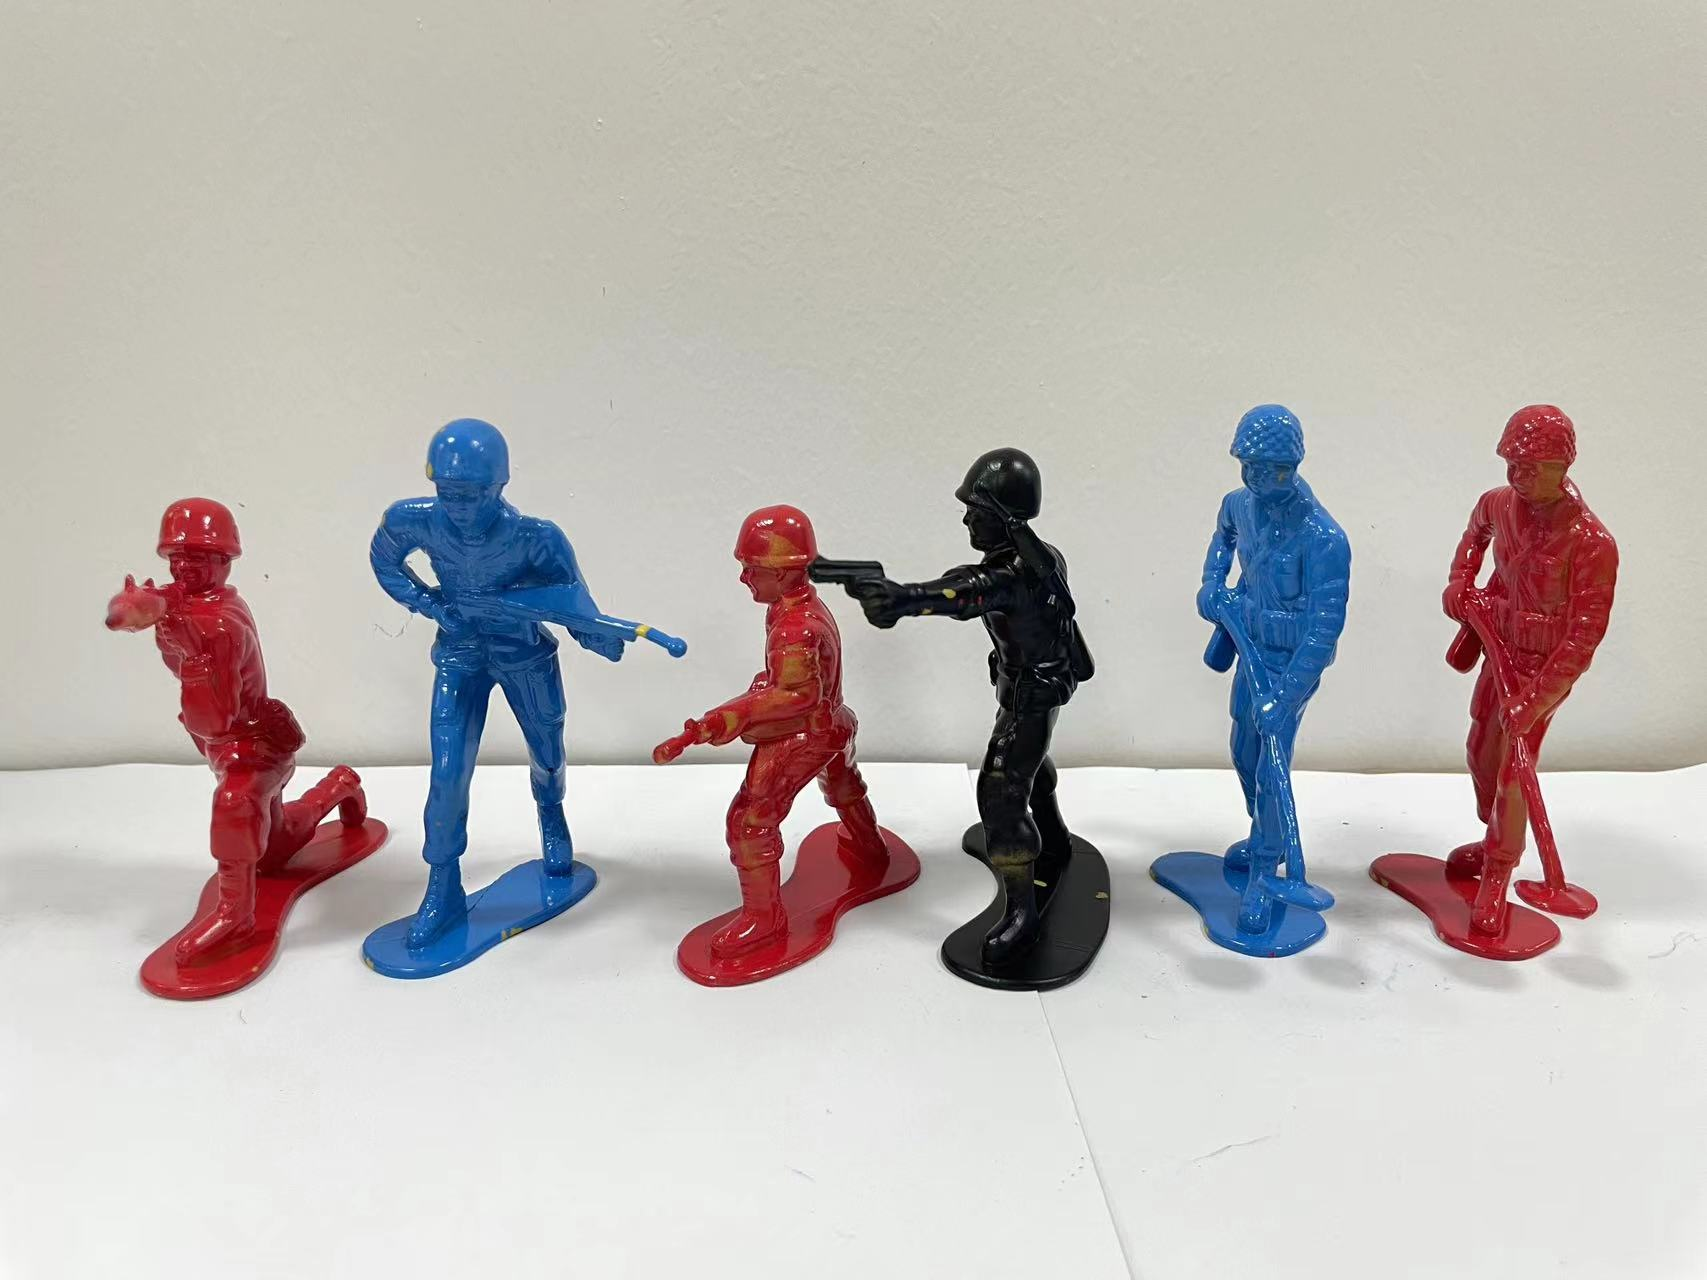black: (854, 442, 1147, 1029)
blue: (349, 415, 647, 1025), (1155, 391, 1383, 987)
red: (1367, 386, 1655, 986), (85, 479, 370, 1029), (649, 499, 913, 999)
